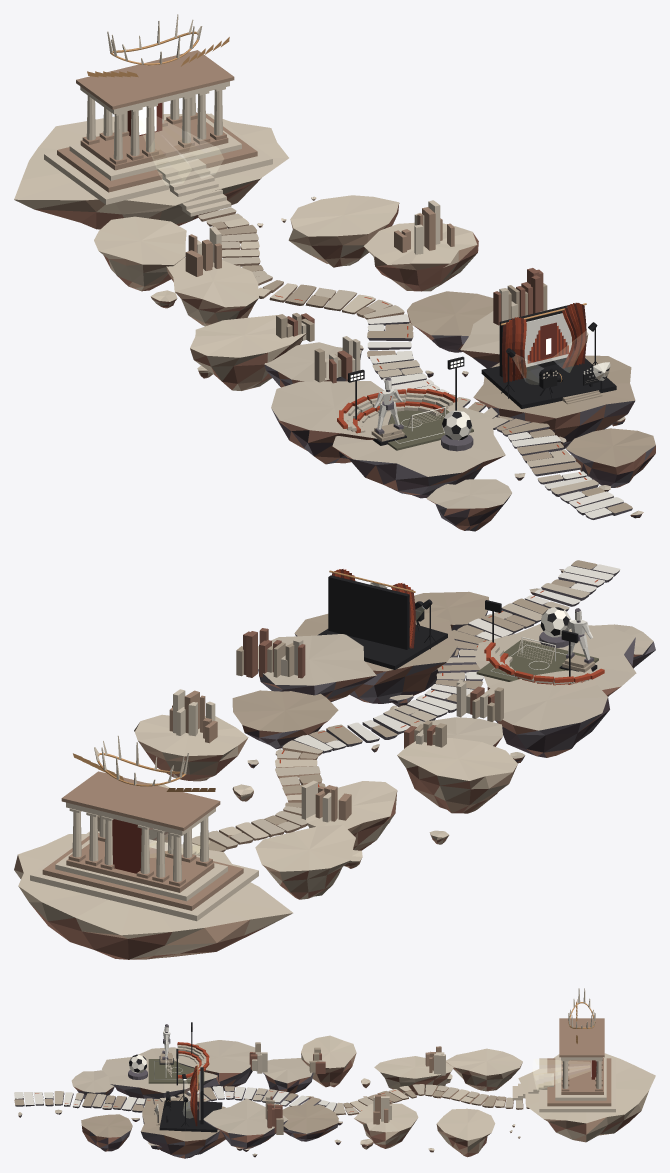
File: blockout.glb
The picture shows the model from 3 angles, top to bottom: view 1: azimuth 30°, elevation 25°; view 2: azimuth 150°, elevation 25°; view 3: azimuth 270°, elevation 25°; orthographic projection. The views are drawn at different scales.
Parts seen in each view (by area): view 1: Monument / suspended bedrock, Football / main shelf, Satellite ledge 03, Satellite ledge 10, Satellite ledge 07, Cinema / main shelf, Satellite ledge 11, Monument / cornice, Satellite ledge 08, Satellite ledge 09, Satellite ledge 02, Satellite ledge 06 (+14 smaller); view 2: Monument / suspended bedrock, Satellite ledge 03, Satellite ledge 07, Satellite ledge 11, Monument / cornice, Screen / backing, Satellite ledge 04, Satellite ledge 08, Satellite ledge 06, Cinema / main shelf, Football / main shelf, Satellite ledge 09 (+12 smaller); view 3: Monument / suspended bedrock, Satellite ledge 04, Football / main shelf, Satellite ledge 11, Cinema / main shelf, Satellite ledge 03, Satellite ledge 10, Satellite ledge 07, Monument / cornice, Satellite ledge 09, Satellite ledge 06, Satellite ledge 08 (+12 smaller).
Part boxes in pixels (x1,y1,x2,y2): Monument / suspended bedrock: (14,113,288,229); Football / main shelf: (332,399,505,498); Satellite ledge 03: (271,381,391,464); Satellite ledge 10: (288,195,399,267); Satellite ledge 07: (190,315,306,390); Cinema / main shelf: (473,355,635,449); Satellite ledge 11: (94,216,186,291); Monument / cornice: (76,50,234,109); Satellite ledge 08: (363,222,478,291); Satellite ledge 09: (166,257,258,326); Satellite ledge 02: (566,428,655,487); Satellite ledge 06: (407,291,493,352); Monument / suspended bedrock: (14,834,292,959); Satellite ledge 03: (485,668,609,757); Satellite ledge 07: (397,738,517,813); Satellite ledge 11: (255,824,355,899); Monument / cornice: (61,771,220,831); Screen / backing: (328,575,409,649); Satellite ledge 04: (258,634,376,701); Satellite ledge 08: (134,714,248,781); Satellite ledge 06: (232,690,338,749); Cinema / main shelf: (294,613,457,703); Football / main shelf: (474,623,636,696); Satellite ledge 09: (306,781,397,850); Monument / suspended bedrock: (518,1053,655,1142); Satellite ledge 04: (203,1098,288,1148); Football / main shelf: (102,1047,219,1104); Satellite ledge 11: (446,1048,522,1091); Cinema / main shelf: (140,1096,225,1158); Satellite ledge 03: (172,1040,255,1090); Satellite ledge 10: (436,1108,495,1157); Satellite ledge 07: (301,1035,356,1087); Monument / cornice: (559,1018,604,1057); Satellite ledge 09: (374,1056,453,1095); Satellite ledge 06: (282,1104,338,1141); Satellite ledge 08: (354,1103,418,1148).
Bounding box in the file's own units: 55.98 × 32.69 × 150.
